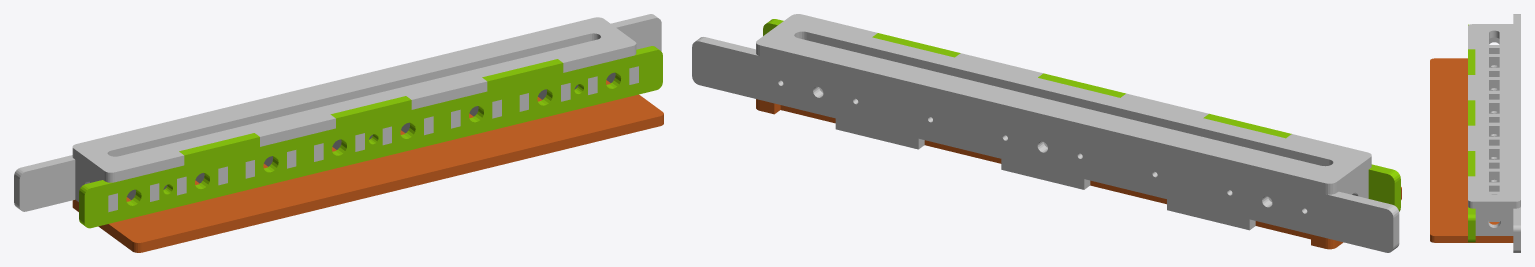
Rendered from full_assembly.obj.
3 renders of one model, left to right at view 1: azimuth 30°, elevation 25°; view 2: azimuth 150°, elevation 25°; view 3: azimuth 270°, elevation 25°, orthographic. The views are drawn at different scales.
Parts seen in each view (by area): view 1: Link002, Body004, Body003, Link001, Link; view 2: Link001, Body004, Link, Link002, Body003; view 3: Body003, Body004, Link, Link001, Link002.
Part boxes in pixels (x1,y1,x2,y2): Link002: [79, 46, 662, 228]; Body004: [72, 17, 636, 182]; Body003: [72, 80, 663, 252]; Link001: [14, 14, 661, 211]; Link: [75, 66, 638, 212]; Link001: [692, 37, 1399, 252]; Body004: [756, 14, 1371, 194]; Link: [753, 67, 1368, 226]; Link002: [763, 19, 1400, 211]; Body003: [756, 99, 1401, 249]; Body003: [1430, 58, 1513, 242]; Body004: [1468, 24, 1520, 208]; Link: [1475, 37, 1513, 235]; Link001: [1513, 14, 1520, 252]; Link002: [1468, 24, 1475, 242].
Bounding box in the file's own units: 202 × 18 × 36.
